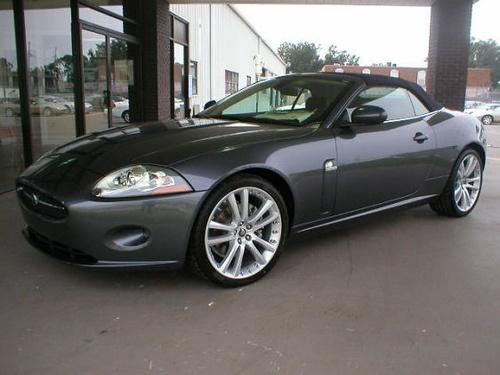car: (16, 70, 489, 288), (4, 97, 68, 119), (43, 96, 96, 115), (102, 95, 132, 124), (472, 104, 500, 125)
